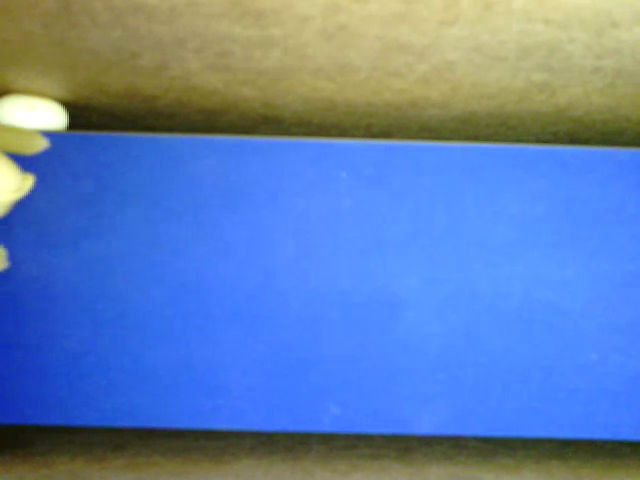penne: (1, 125, 50, 156)
